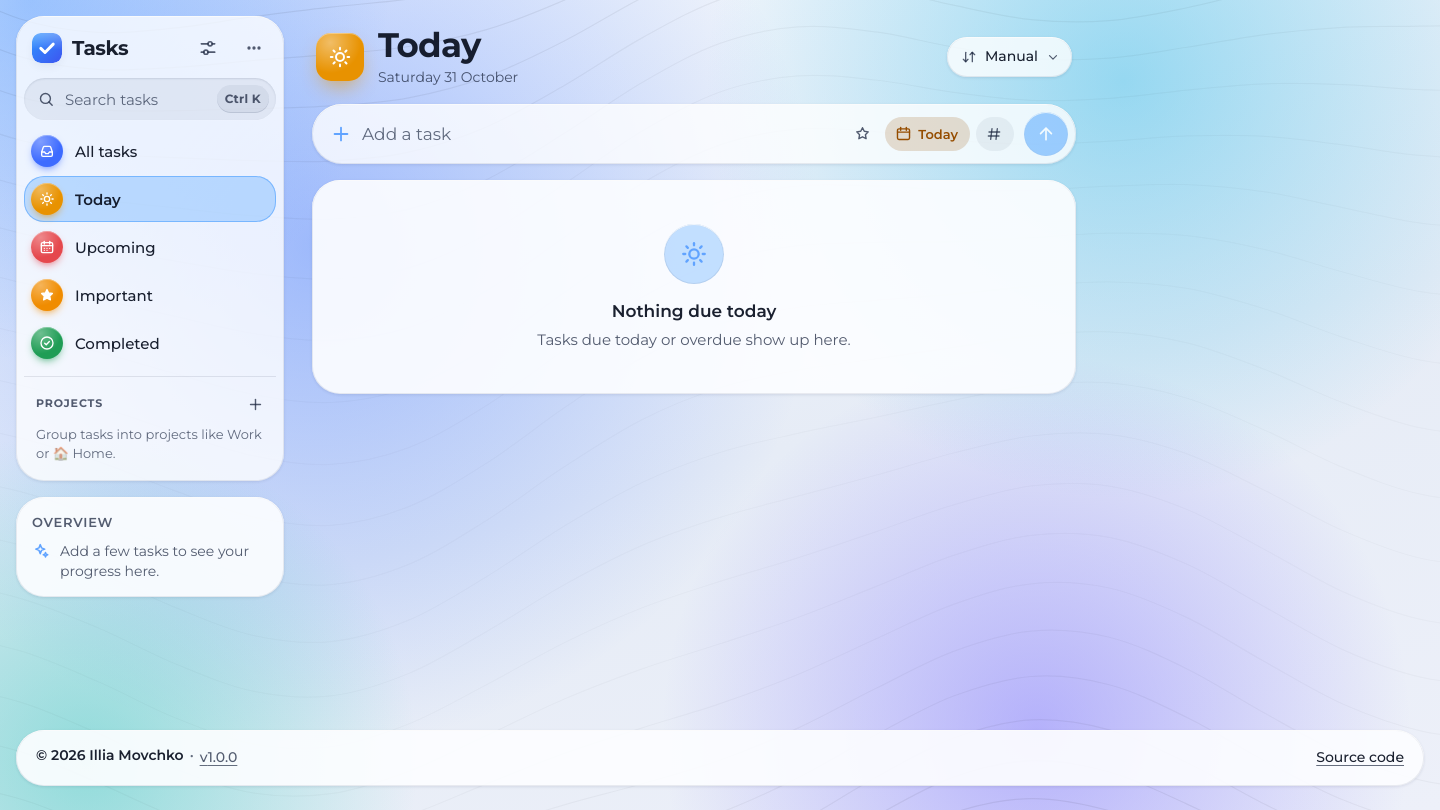
Scenario: TaskComposer quick add › lets a recognised date override the picker only while it is typed
Expected: the button with aria-label "Due date: Today" is shown, 885,117 -> 970,151
In the field named "New task": x=599, y=134 362,112 -> 835,156, type "Report next week"
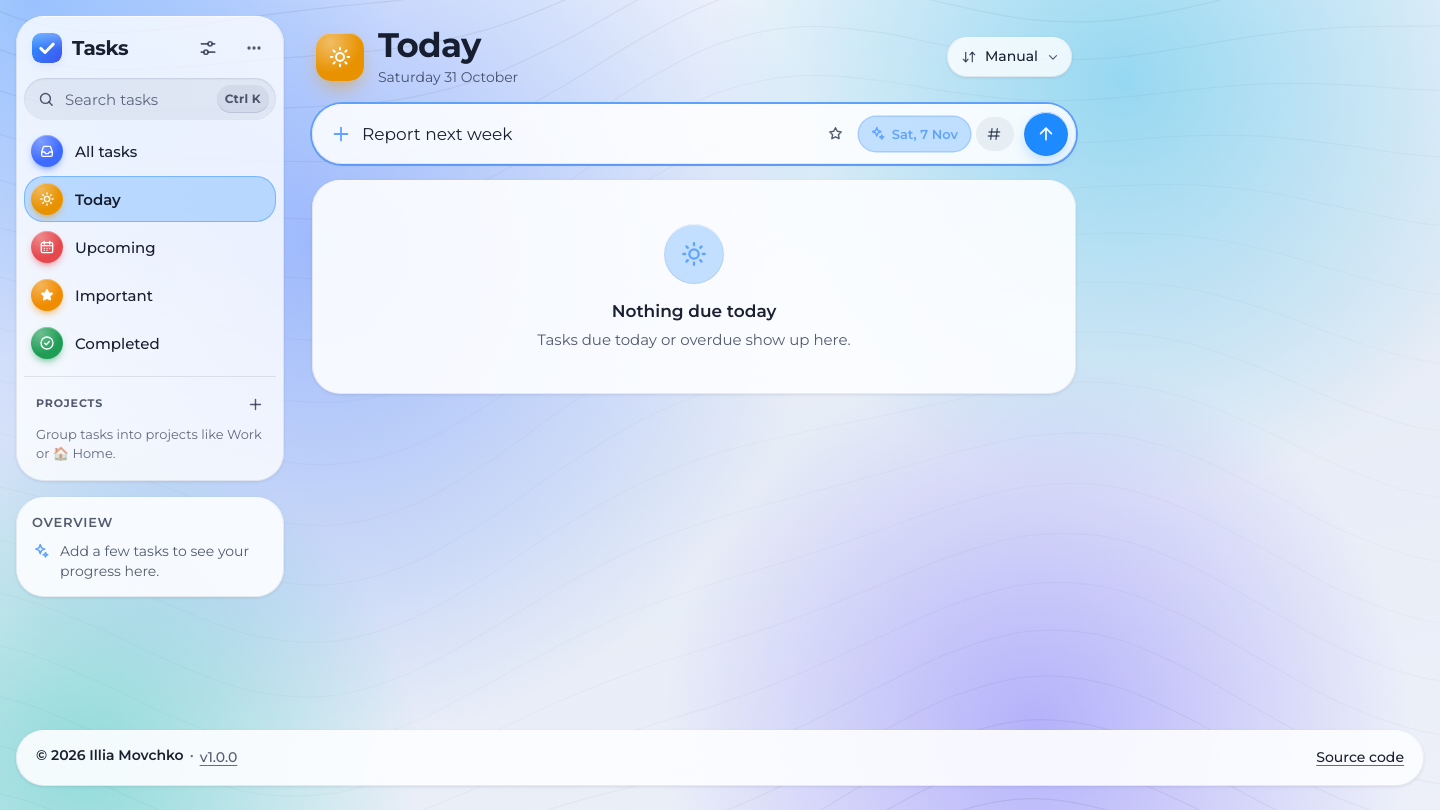
Clear the field named "New task": x=585, y=134 362,112 -> 809,156
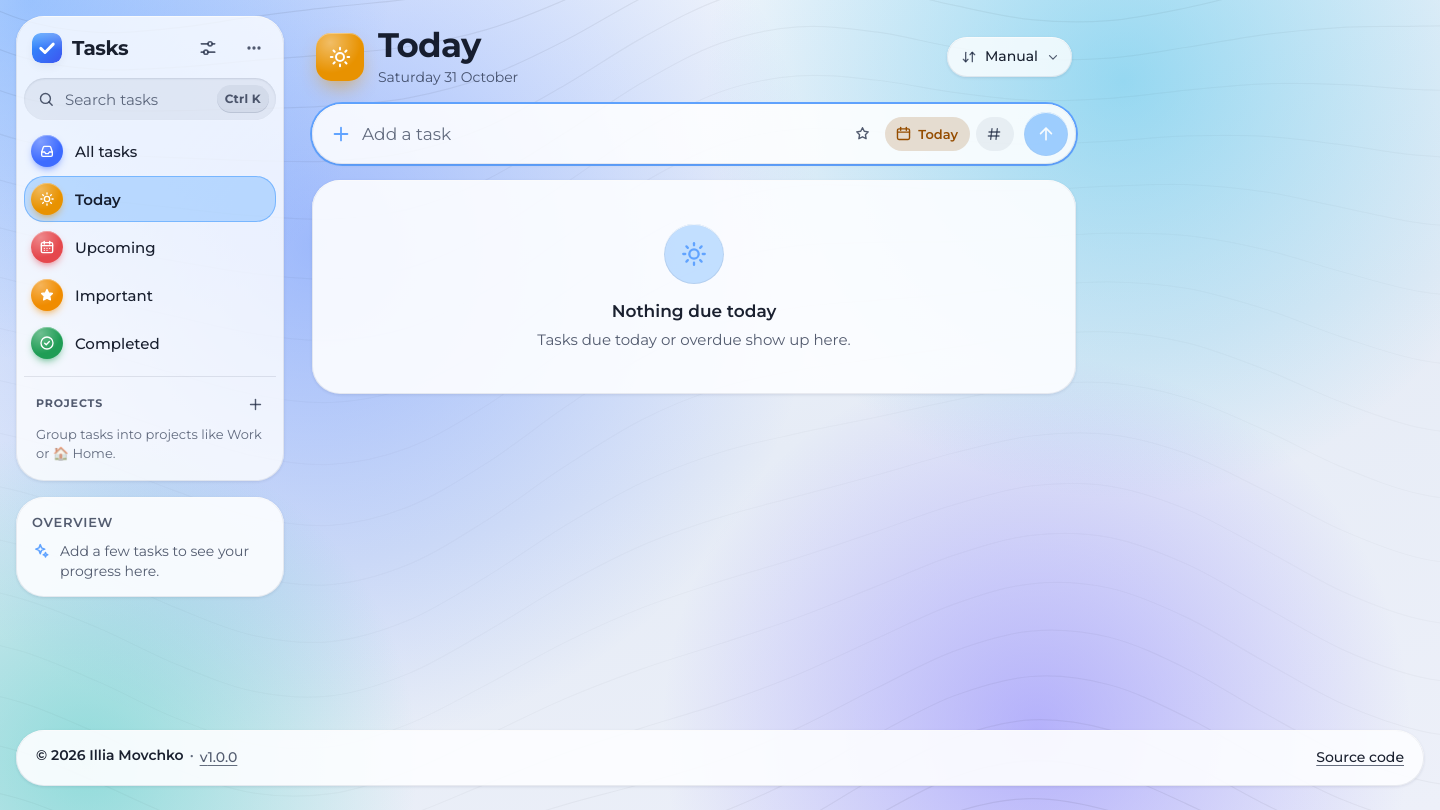
Now the button with aria-label "Due date: Today" is shown, box 885,117 -> 970,151
